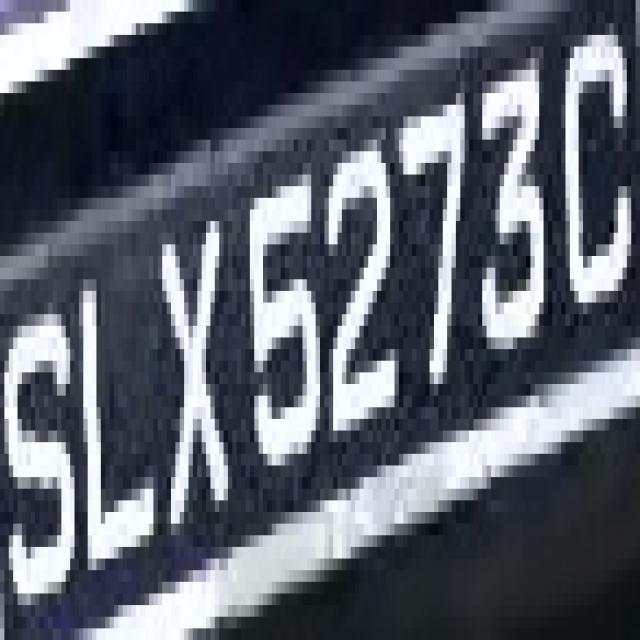2: (312, 105, 404, 454)
3: (452, 58, 552, 396)
5: (237, 152, 324, 466)
7: (382, 93, 474, 419)
C: (552, 35, 632, 361)
L: (75, 267, 162, 594)
S: (0, 5, 1, 12)
X: (149, 186, 237, 559)
